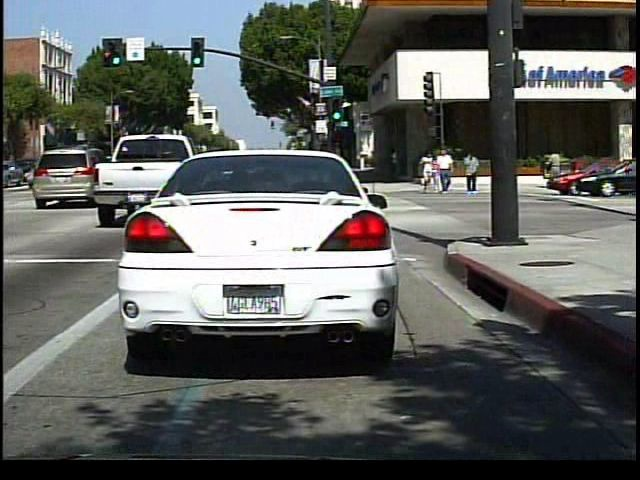person: (462, 146, 484, 195), (436, 144, 457, 195), (418, 147, 438, 196), (543, 146, 565, 189)
